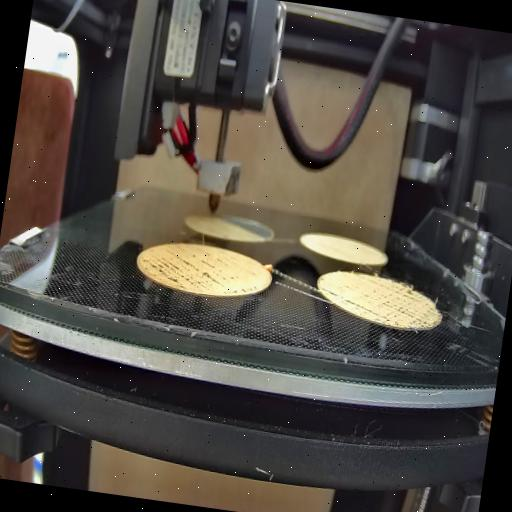under_extrusion: (138, 248, 263, 301), (341, 274, 437, 328), (318, 279, 338, 301)
